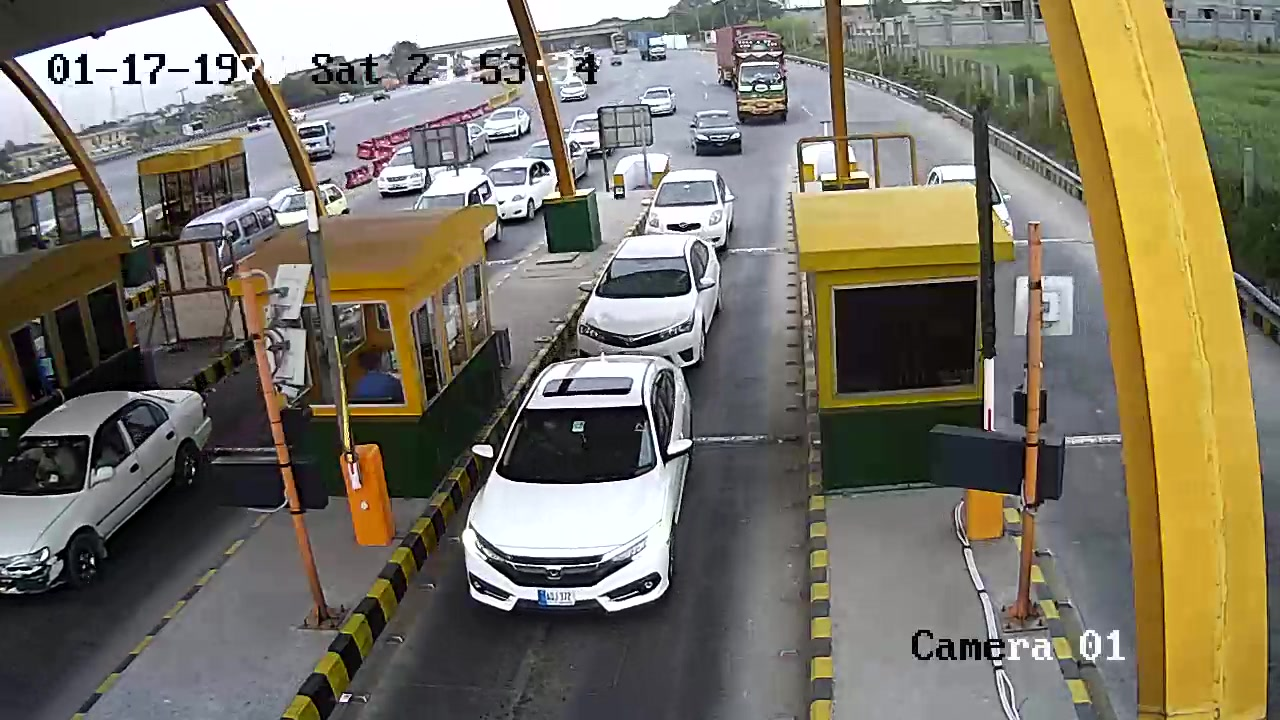F1: (461, 350, 741, 619)
